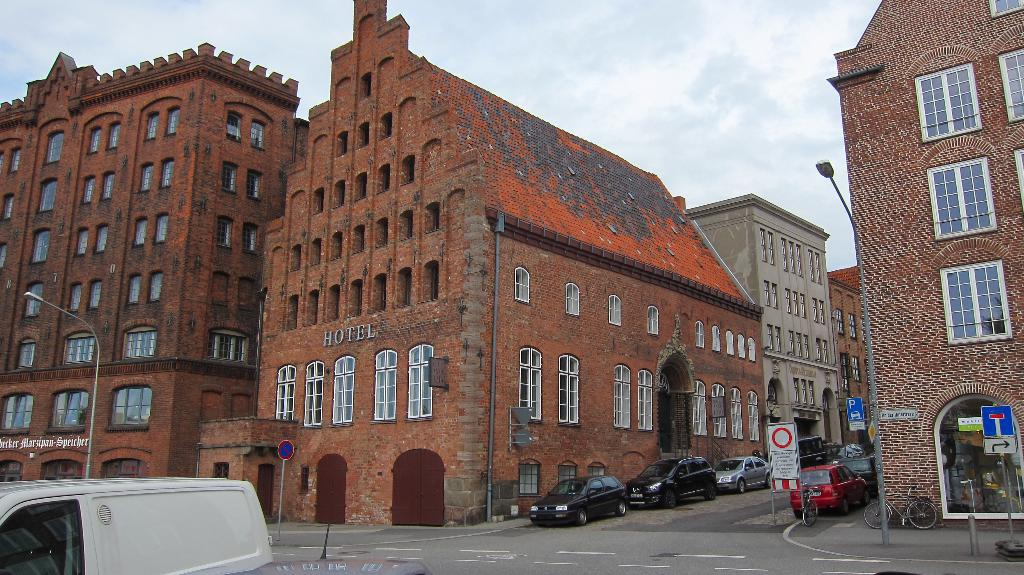Car: (527, 473, 625, 528), (629, 455, 713, 507), (793, 461, 863, 519), (714, 455, 777, 491), (852, 449, 882, 518)
